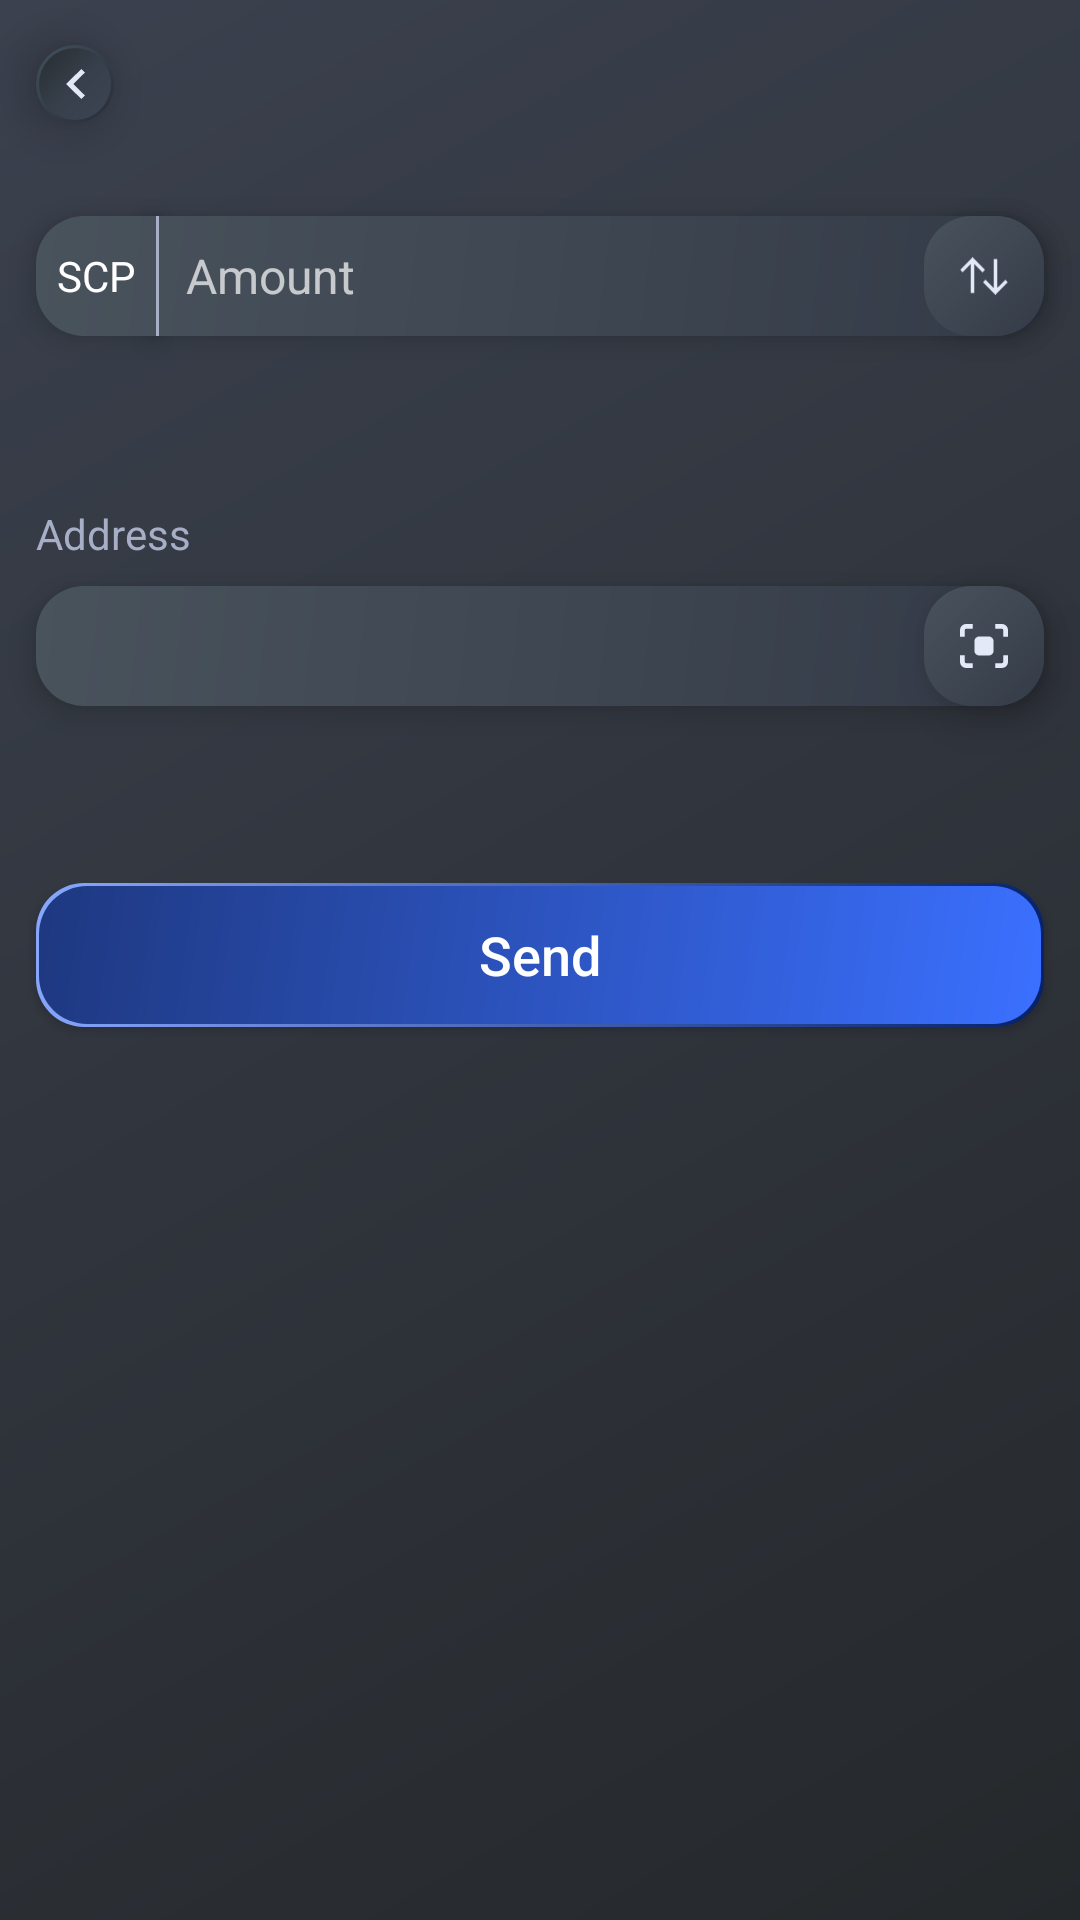

Screen size 1080 × 1920. Icon name, then its center in pixels as (x,y):
back: (75,84)
change currency: (975,267)
scan: (984,646)
